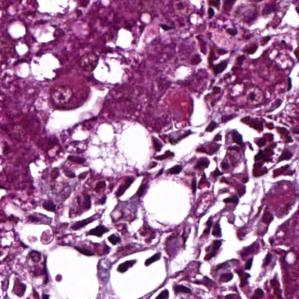ballooning: (86, 118, 155, 181)
